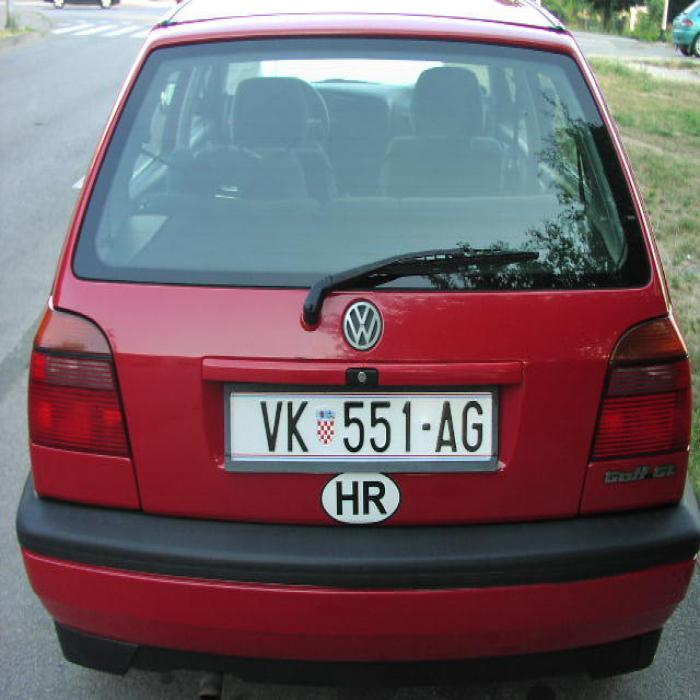number_plate: (231, 392, 491, 458)
